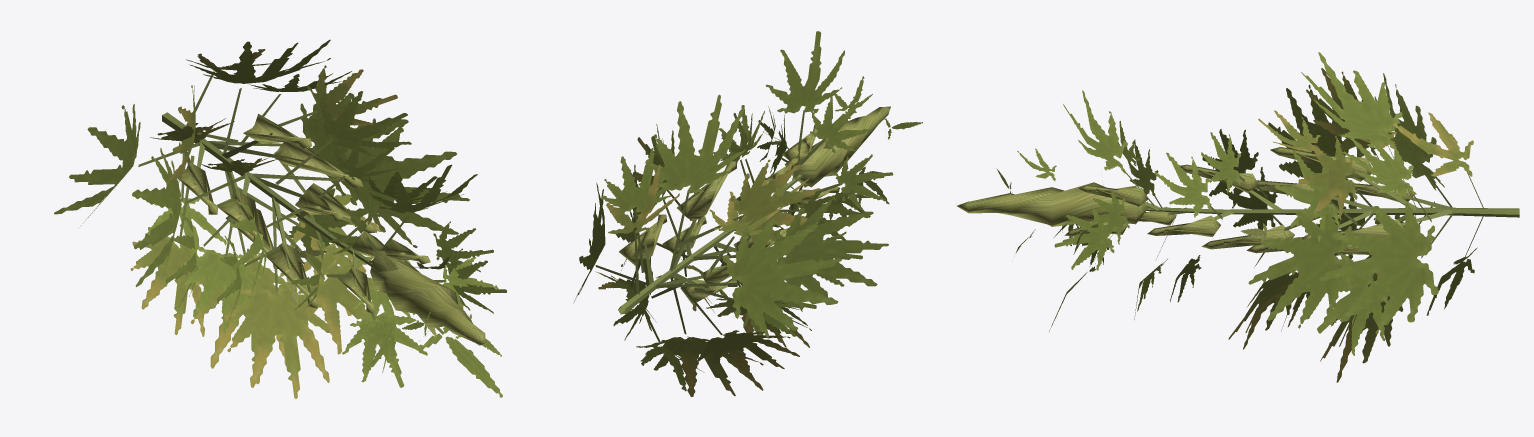
File: p_landrace_ripe_c1_cards.obj
3 renders of one model, left to right at view 1: azimuth 30°, elevation 25°; view 2: azimuth 150°, elevation 25°; view 3: azimuth 270°, elevation 25°, orthographic. The views are drawn at different scales.
Size of the model in its own units: 1.56 by 1.54 by 2.13.
1 material, 1 textured.
